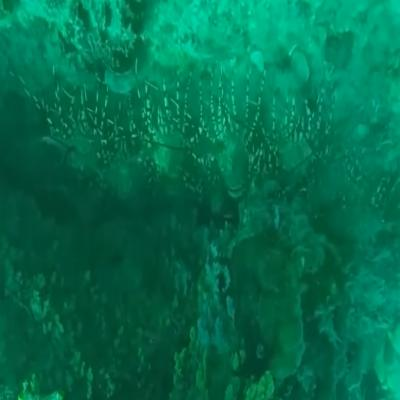lobster: (215, 100, 245, 198)
